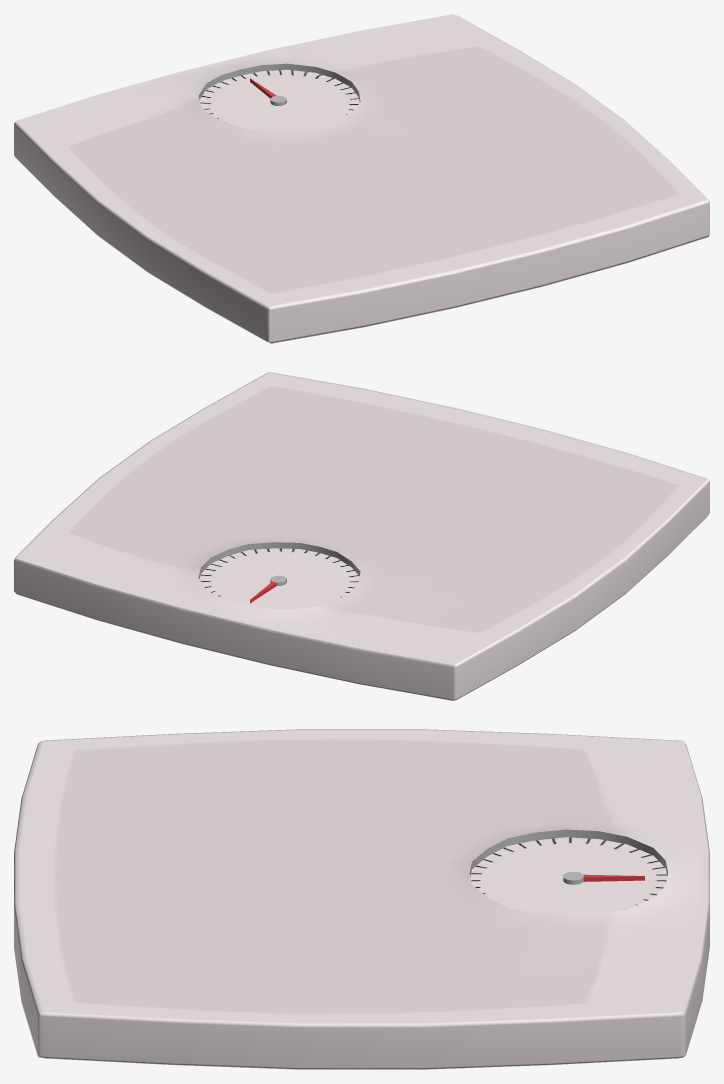
The model's file is Scale.fbx.
3 renders of one model, top to bottom at view 1: azimuth 30°, elevation 25°; view 2: azimuth 150°, elevation 25°; view 3: azimuth 270°, elevation 25°, orthographic. The views are drawn at different scales.
Visible parts, largest first — view 1: pCylinder2; view 2: pCylinder2; view 3: pCylinder2.
Part boxes in pixels (left/top/right/bottom): pCylinder2: left=14, top=14, right=709, bottom=343; pCylinder2: left=14, top=372, right=709, bottom=700; pCylinder2: left=14, top=729, right=709, bottom=1069.
Size of the model in its own units: 0.569 by 0.0442 by 0.5647.
